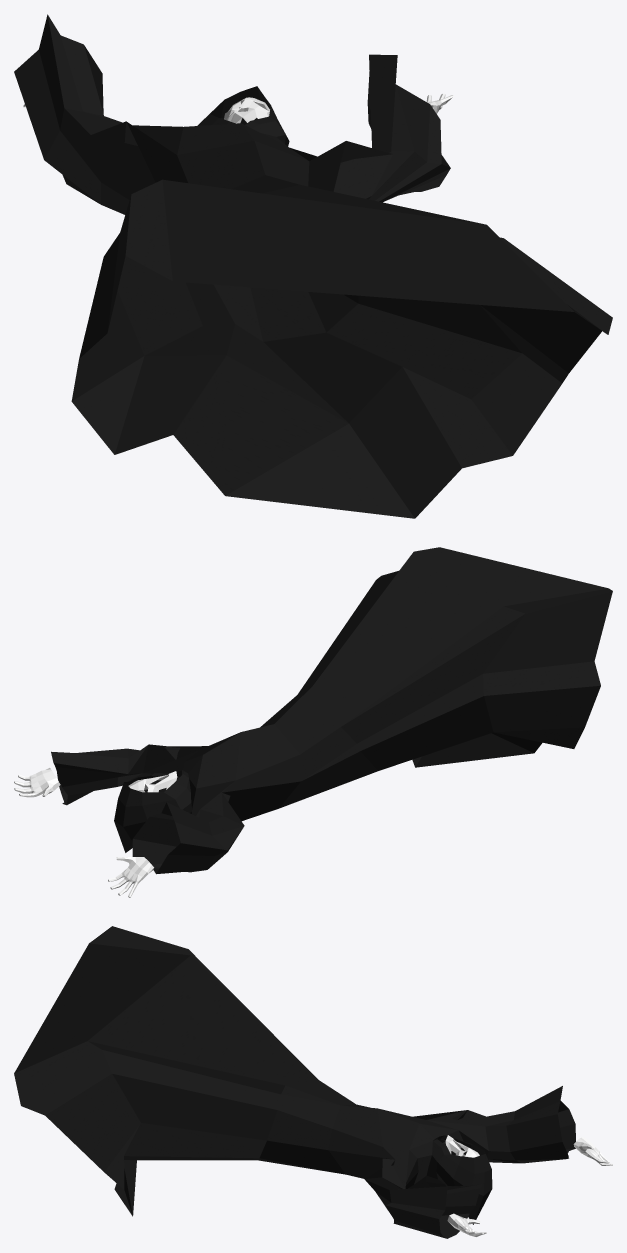
The model's file is ReaperDead(106).obj.
3 renders of one model, top to bottom at view 1: azimuth 30°, elevation 25°; view 2: azimuth 150°, elevation 25°; view 3: azimuth 270°, elevation 25°, orthographic. The views are drawn at different scales.
Visible parts, largest first — view 1: Plane003; view 2: Plane003; view 3: Plane003.
Part boxes in pixels (x1,y1,x2,y2): Plane003: (14,14,612,518); Plane003: (14,547,612,897); Plane003: (14,926,612,1238).
Bounding box in the file's own units: 211 × 107 × 294.
